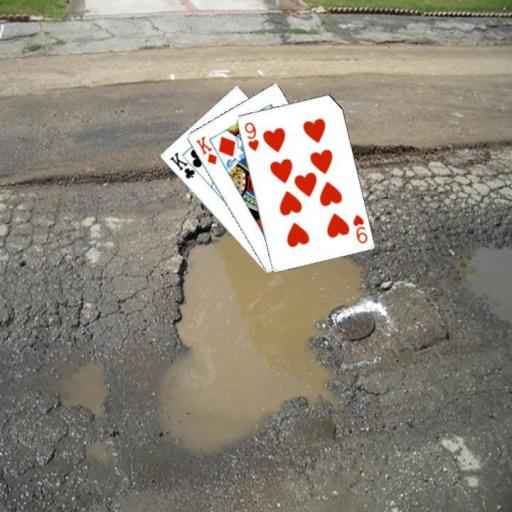9H: (350, 211, 369, 245), (241, 119, 260, 152)
KC: (166, 149, 202, 180)
KD: (192, 133, 218, 166)
